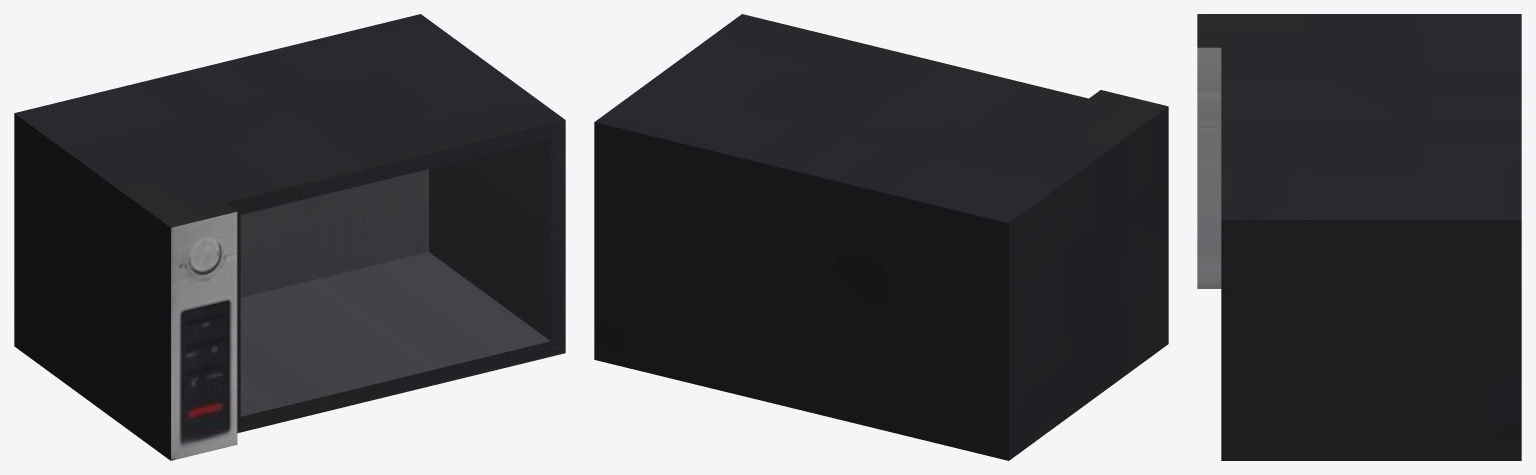
The model's file is Microwave.glb.
3 renders of one model, left to right at view 1: azimuth 30°, elevation 25°; view 2: azimuth 150°, elevation 25°; view 3: azimuth 270°, elevation 25°, orthographic. The views are drawn at different scales.
Parts seen in each view (by area): view 1: Microwave; view 2: Microwave; view 3: Microwave.
Boxes of the visible parts, x1=… form: Microwave: x1=14, y1=14, x2=565, y2=460; Microwave: x1=594, y1=14, x2=1168, y2=460; Microwave: x1=1197, y1=14, x2=1521, y2=460.
Size of the model in its own units: 0.6556 by 0.3591 by 0.4376.
1 material, 1 textured.
